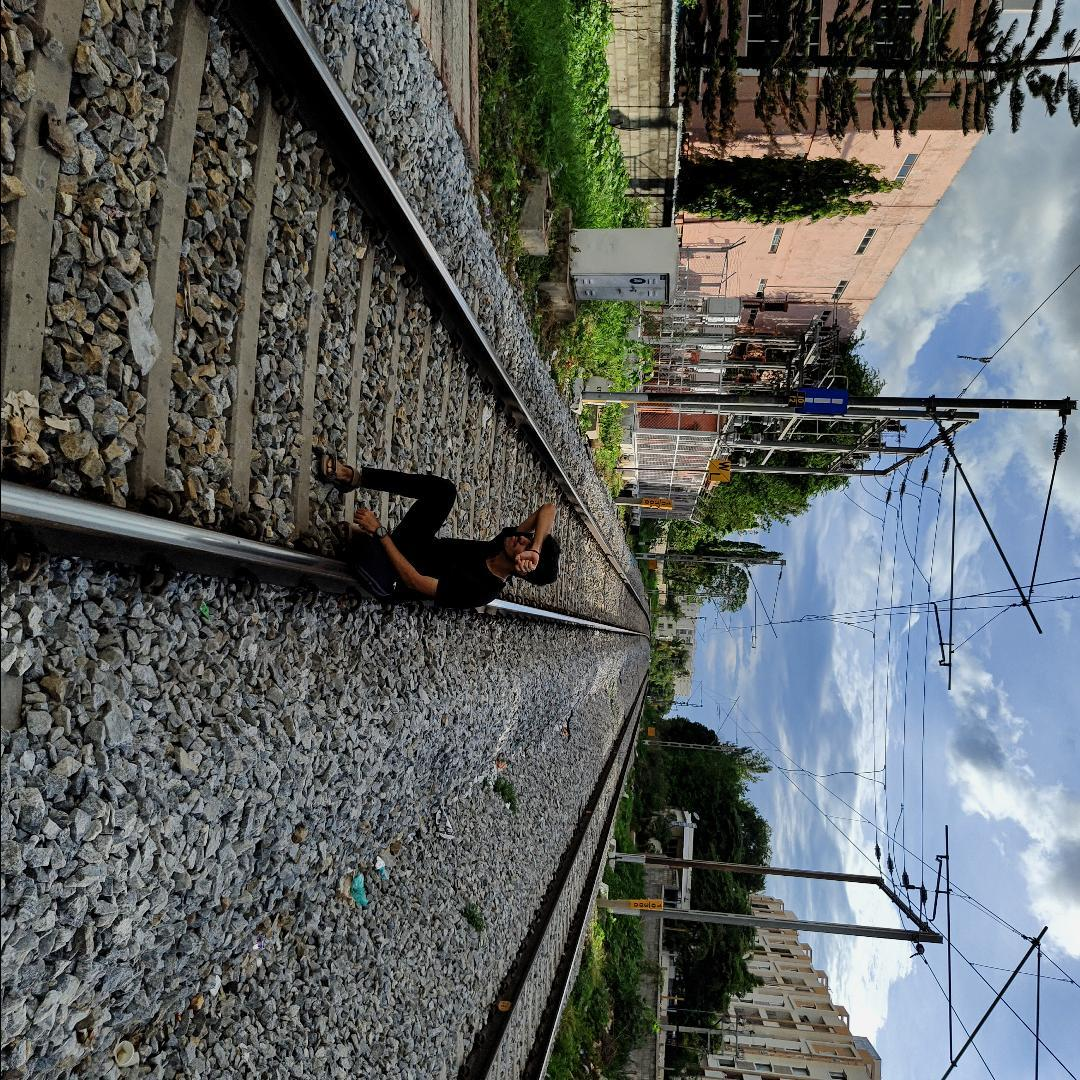sitting: (308, 459, 570, 618)
